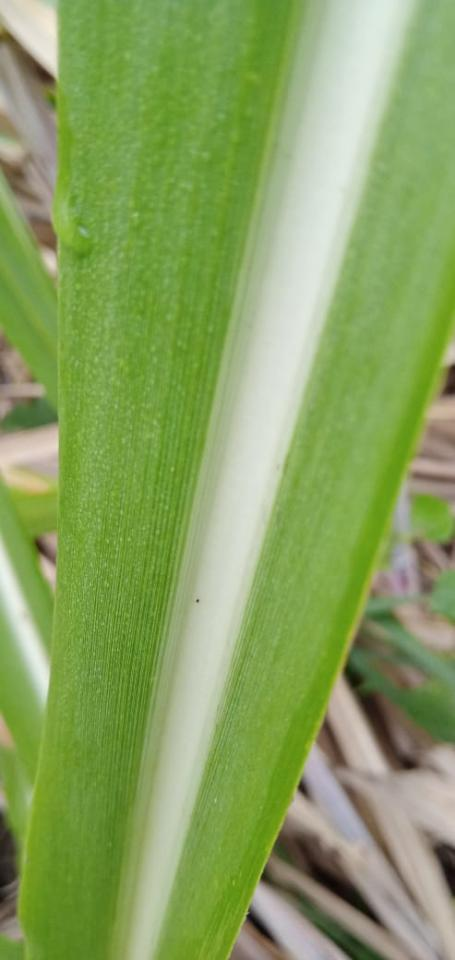Healthy: (18, 0, 454, 959)
